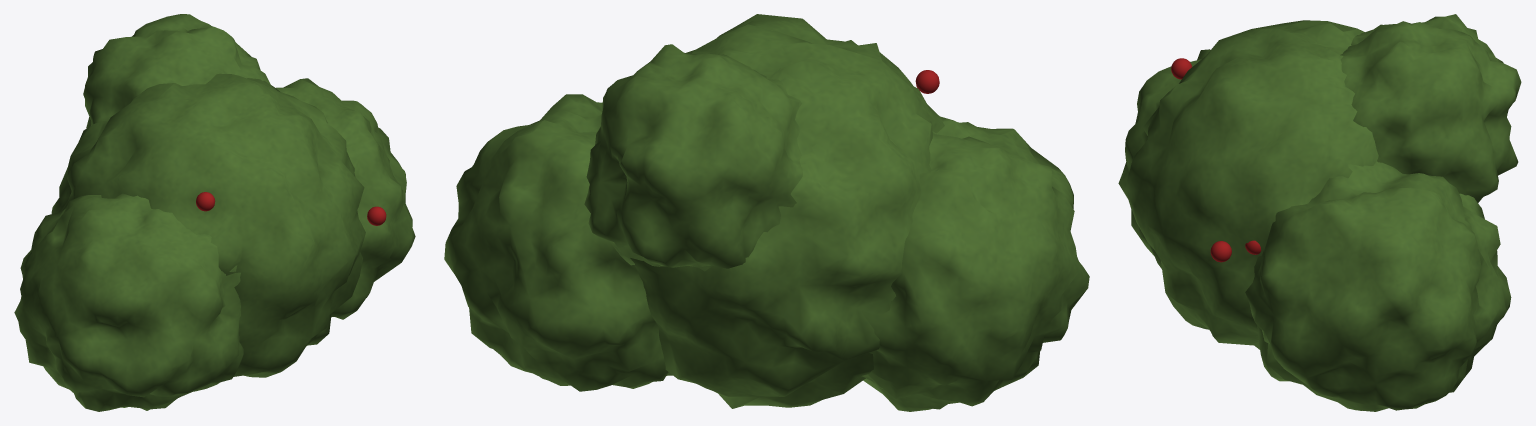
Rendered from hawthorn.glb.
3 views of the same model, side by side, from view 1: azimuth 30°, elevation 25°; view 2: azimuth 150°, elevation 25°; view 3: azimuth 270°, elevation 25° (orthographic). The views are drawn at different scales.
Visible parts, largest first — view 1: hawthorn; view 2: hawthorn; view 3: hawthorn.
Part boxes in pixels (x1=…): hawthorn: x1=14, y1=14, x2=415, y2=411; hawthorn: x1=444, y1=14, x2=1089, y2=411; hawthorn: x1=1118, y1=14, x2=1521, y2=411.
Size of the model in its own units: 2.94 by 2.05 by 2.25.
1 material, 1 textured.
